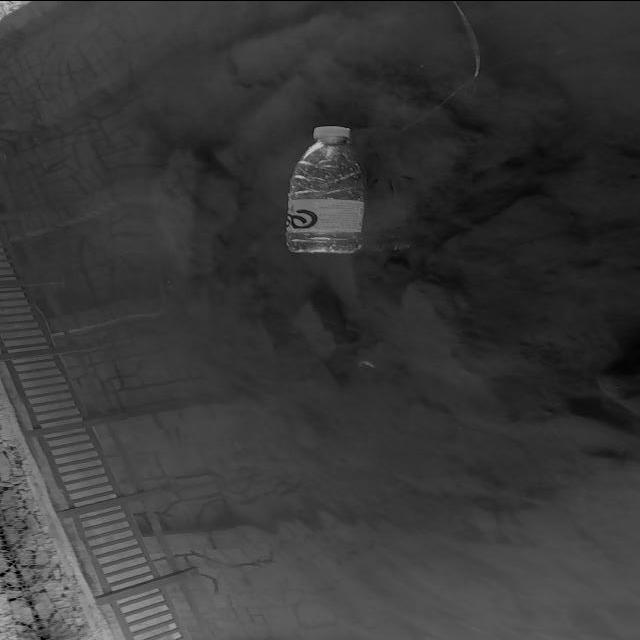bottle: (254, 110, 393, 273)
